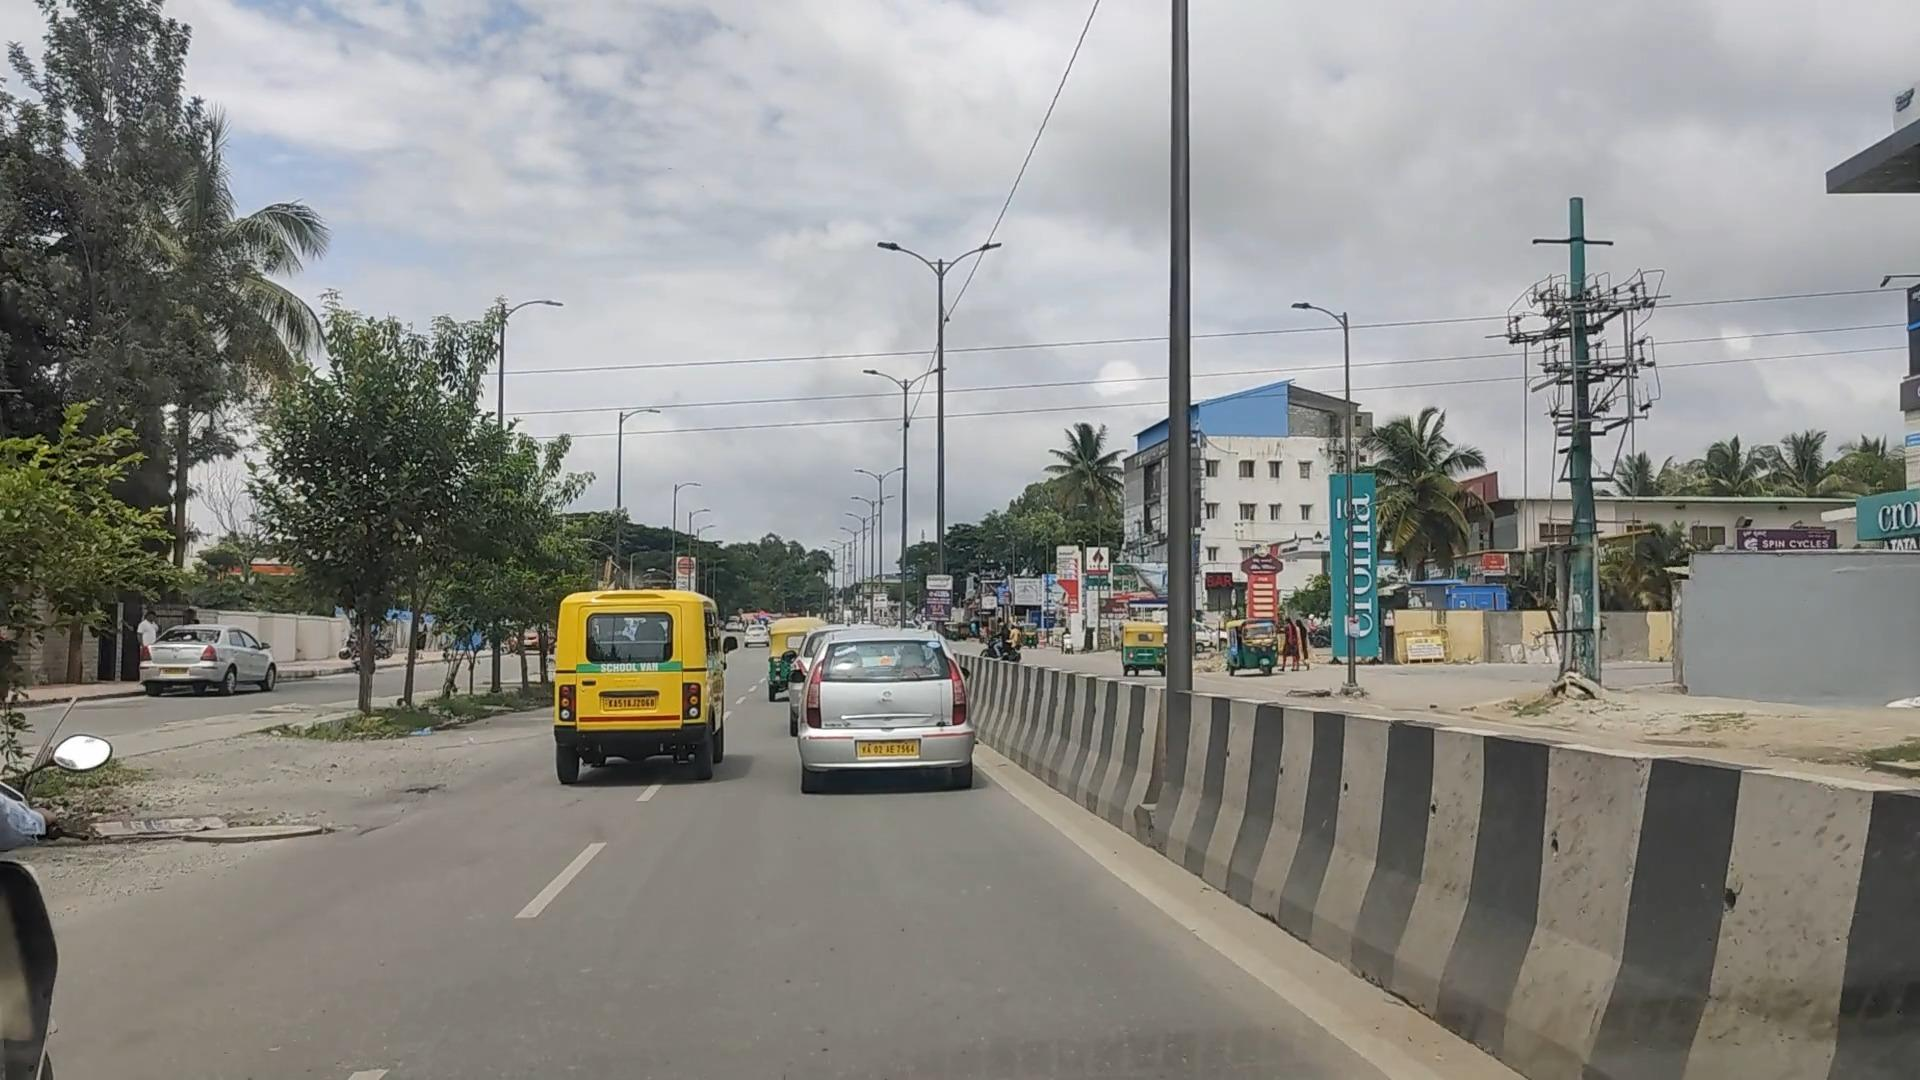LMV: (529, 589, 742, 783), (766, 618, 980, 806)
RoadDamages: (87, 773, 384, 880), (397, 754, 467, 828)
